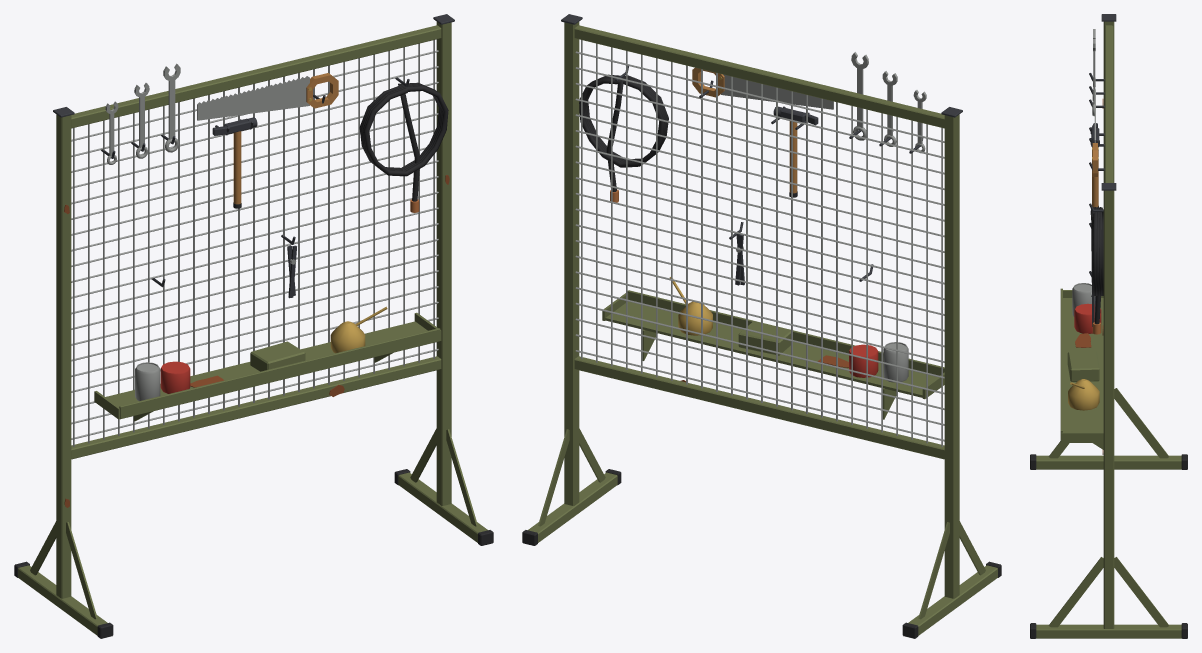
The model's file is deco_tool_rack_metal.fbx.
3 renders of one model, left to right at view 1: azimuth 30°, elevation 25°; view 2: azimuth 150°, elevation 25°; view 3: azimuth 270°, elevation 25°, orthographic. The views are drawn at different scales.
Parts seen in each view (by area): view 1: ToolRack_Metal_Frame, ToolRack_Metal_Mesh, ToolRack_Metal_Tools, ToolRack_Metal_TrayItems, ToolRack_Metal_Cable; view 2: ToolRack_Metal_Frame, ToolRack_Metal_Mesh, ToolRack_Metal_Tools, ToolRack_Metal_TrayItems, ToolRack_Metal_Cable; view 3: ToolRack_Metal_Frame, ToolRack_Metal_TrayItems, ToolRack_Metal_Cable, ToolRack_Metal_Tools, ToolRack_Metal_Hooks, ToolRack_Metal_Wear.
Part boxes in pixels (box(x1,y1,x2,y2)): ToolRack_Metal_Frame: box(14, 14, 493, 638); ToolRack_Metal_Mesh: box(71, 40, 438, 446); ToolRack_Metal_Tools: box(105, 63, 338, 298); ToolRack_Metal_TrayItems: box(135, 306, 387, 401); ToolRack_Metal_Cable: box(359, 82, 448, 212); ToolRack_Metal_Frame: box(522, 14, 1001, 638); ToolRack_Metal_Mesh: box(575, 40, 944, 446); ToolRack_Metal_Tools: box(692, 52, 926, 285); ToolRack_Metal_TrayItems: box(669, 277, 908, 382); ToolRack_Metal_Cable: box(579, 74, 668, 202); ToolRack_Metal_Frame: box(1030, 14, 1187, 638); ToolRack_Metal_TrayItems: box(1067, 283, 1101, 410); ToolRack_Metal_Cable: box(1090, 207, 1103, 334); ToolRack_Metal_Tools: box(1090, 29, 1099, 326); ToolRack_Metal_Hooks: box(1089, 73, 1104, 276); ToolRack_Metal_Wear: box(1075, 99, 1103, 454).
Bounding box in the file's own units: 197 × 249 × 75.
